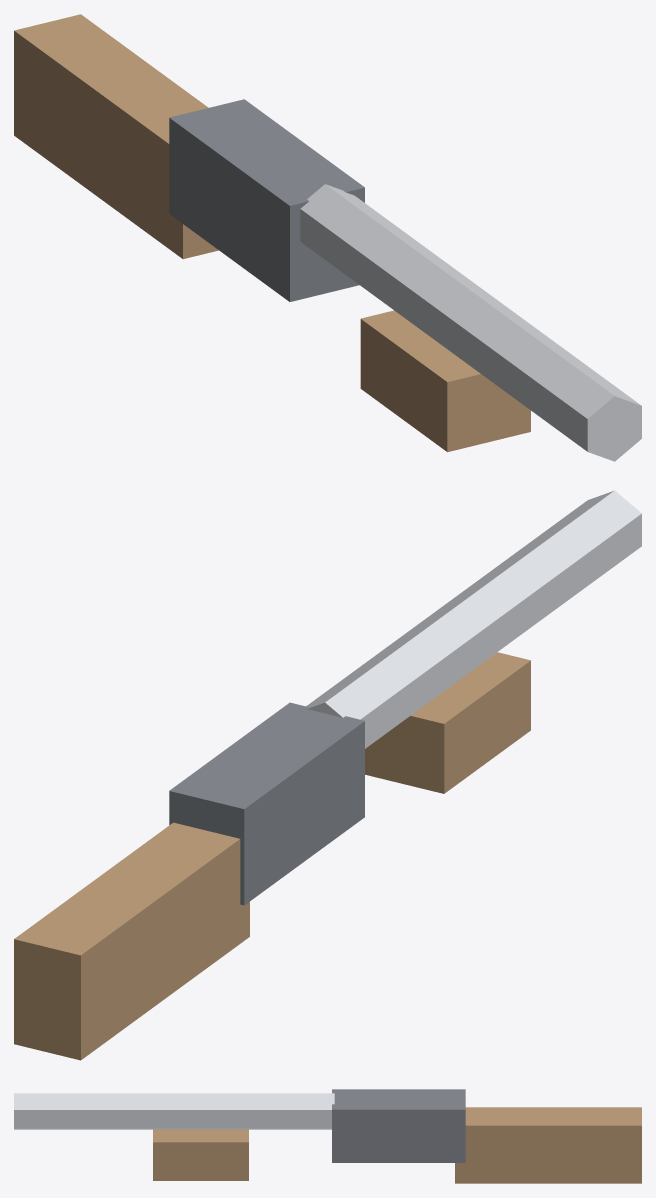
File: Scattergun.fbx
3 views of the same model, one above another, from view 1: azimuth 30°, elevation 25°; view 2: azimuth 150°, elevation 25°; view 3: azimuth 270°, elevation 25° (orthographic). The views are drawn at different scales.
Visible parts, largest first — view 1: Body; view 2: Body; view 3: Body.
Boxes of the visible parts, x1,y1,x2,y2 form: Body: (14, 14, 641, 461); Body: (14, 490, 641, 1060); Body: (14, 1089, 641, 1183).
Size of the model in its own units: 0.1 by 0.1675 by 1.18.
